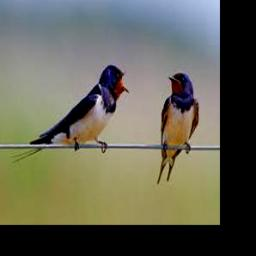Swallow: (11, 64, 131, 163), (158, 70, 198, 184)
